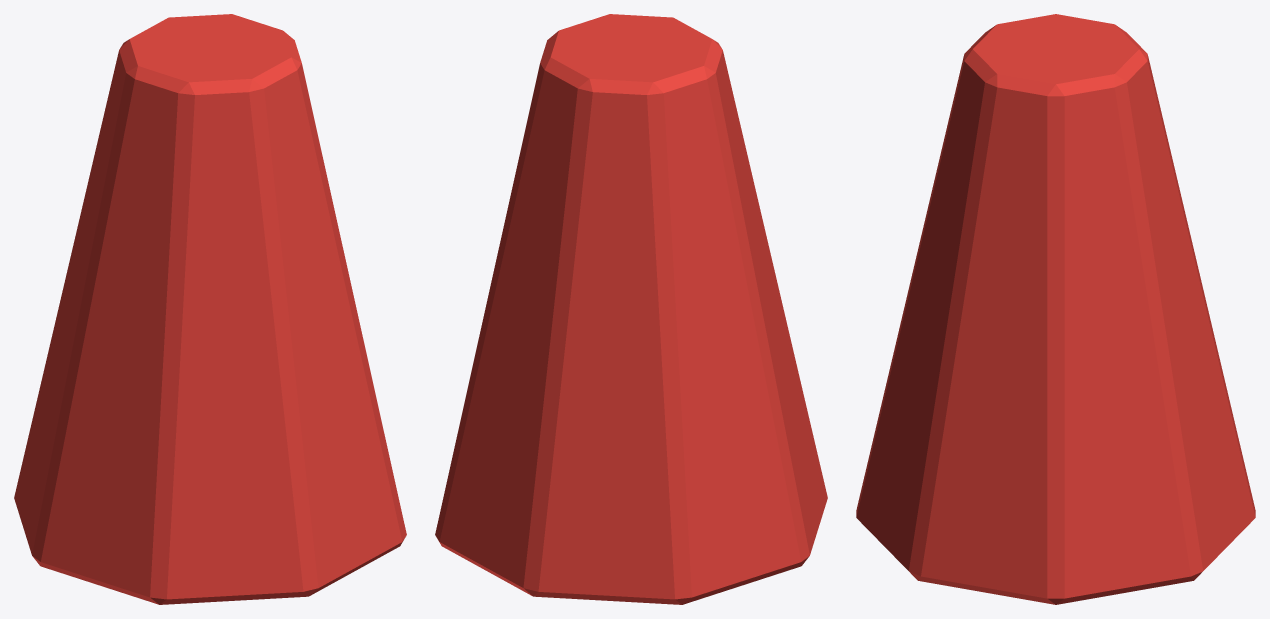
The model's file is buoy.glb.
3 renders of one model, left to right at view 1: azimuth 30°, elevation 25°; view 2: azimuth 150°, elevation 25°; view 3: azimuth 270°, elevation 25°, orthographic.
Visible parts, largest first — view 1: buoy; view 2: buoy; view 3: buoy.
Boxes of the visible parts, <box> form: buoy: <box>14,14,406,604</box>; buoy: <box>435,14,827,604</box>; buoy: <box>856,14,1255,604</box>.
Size of the model in its own units: 0.2141 by 0.28 by 0.2141.
